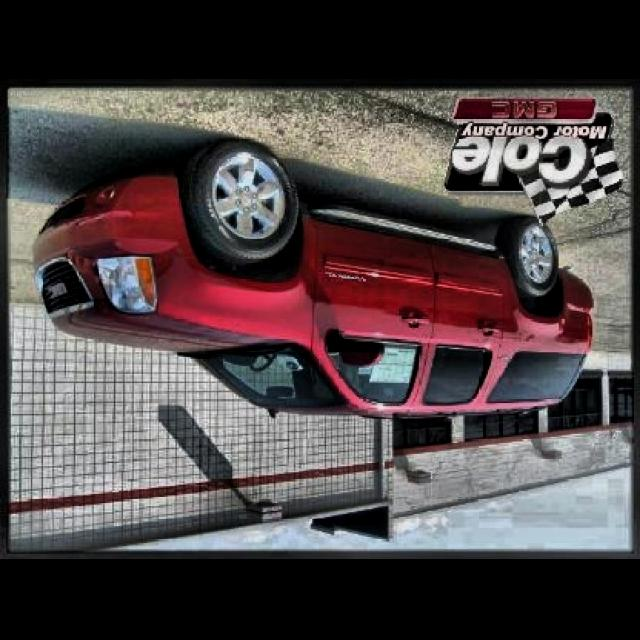maroon: (33, 148, 591, 422)
